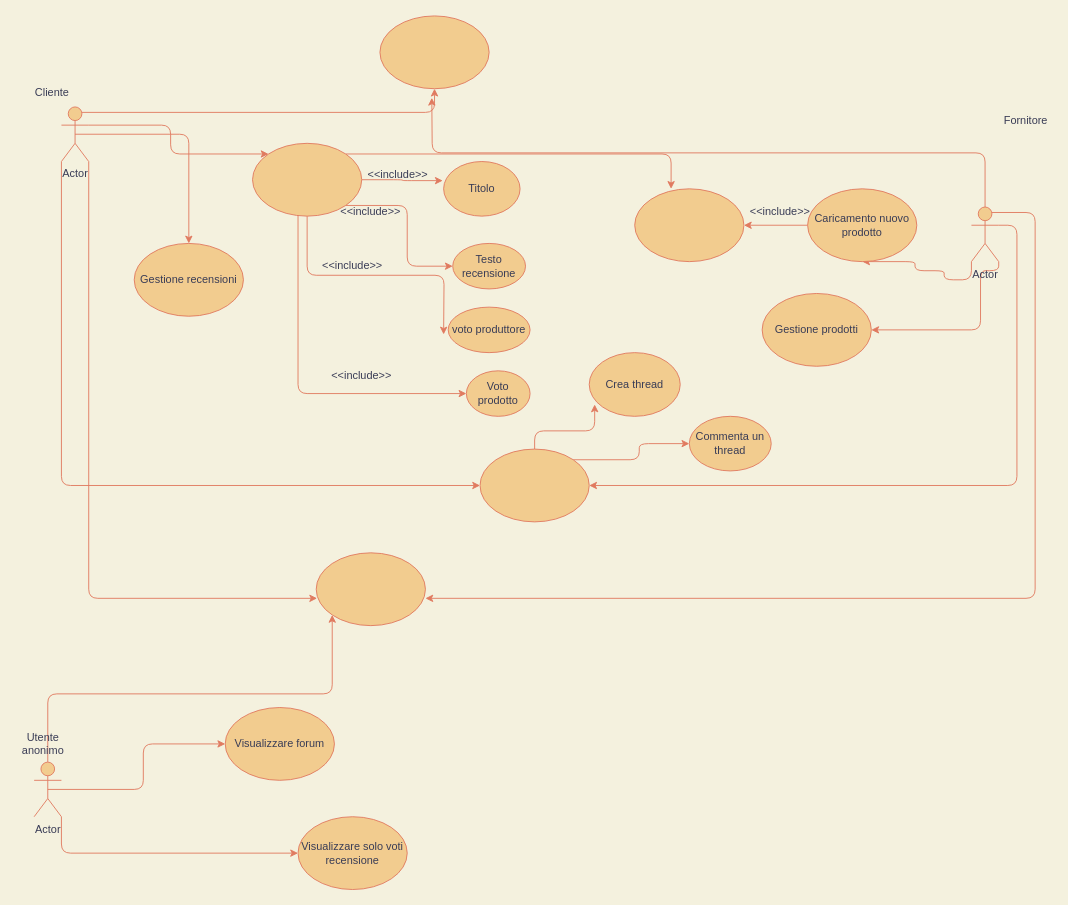
Some shapes in this 1068 by 905 pixel diagram are drawn without their labels. Here are the shapes that lost their labels. From the top down, the centre of each, then its label:
At (434,52): "Registrazione".
At (307,179): "Crea recensione".
At (689,225): "Prodotto".
At (534,485): "Partecipazione e visualizzazione forum".
At (370,589): "Ricerca filtrata".
